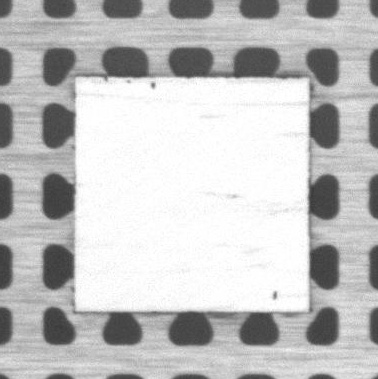DIE_INK: (102, 77, 156, 92), (208, 188, 239, 203), (271, 288, 279, 301)
